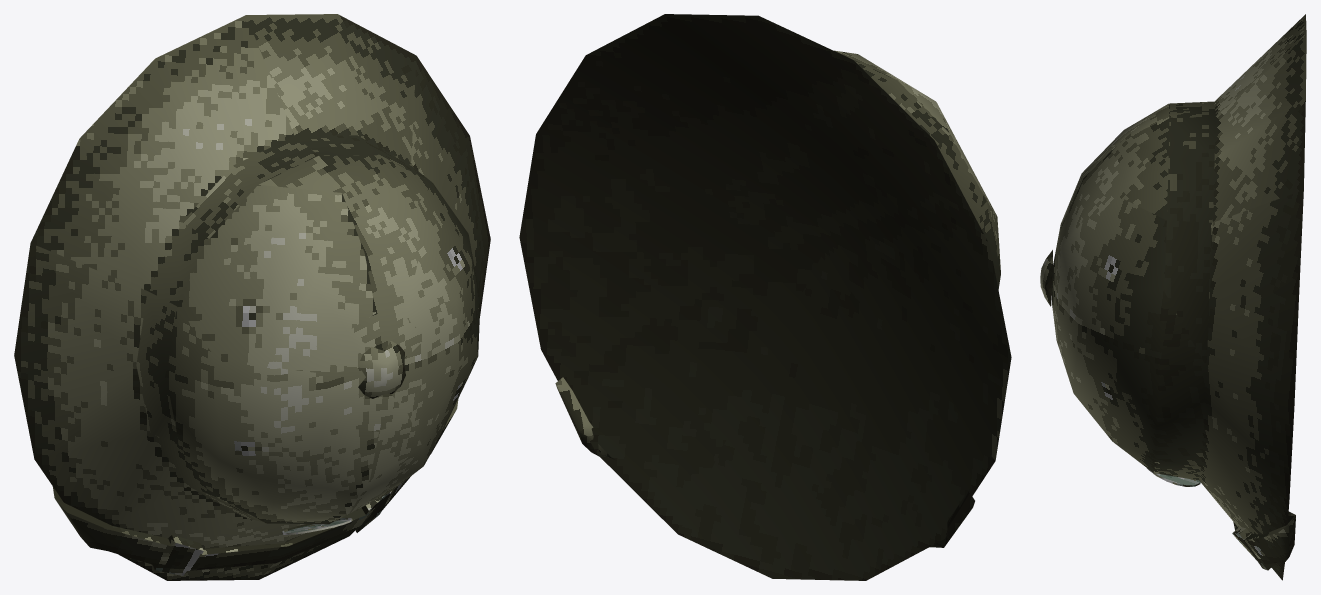
The model's file is wear_pith.glb.
3 renders of one model, left to right at view 1: azimuth 30°, elevation 25°; view 2: azimuth 150°, elevation 25°; view 3: azimuth 270°, elevation 25°, orthographic. The views are drawn at different scales.
Parts seen in each view (by area): view 1: mesh; view 2: mesh; view 3: mesh.
Boxes of the visible parts, x1,y1,x2,y2 form: mesh: [14, 14, 490, 580]; mesh: [519, 14, 1011, 580]; mesh: [1040, 14, 1306, 580].
Size of the model in its own units: 0.1348 by 0.15 by 0.0693.
1 material, 1 textured.
